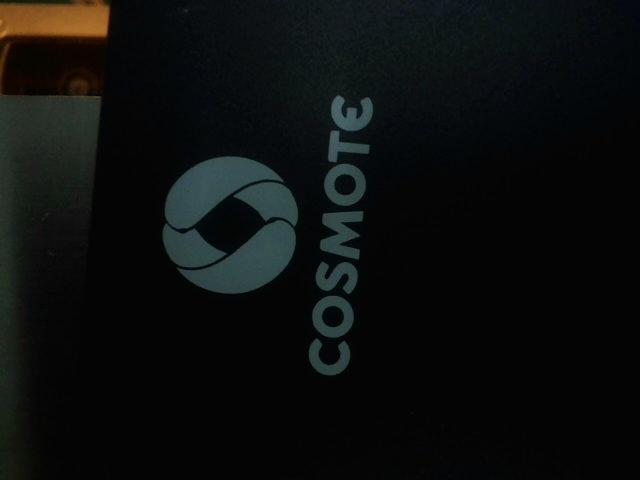AU_COSMOTE: (148, 74, 387, 383)
